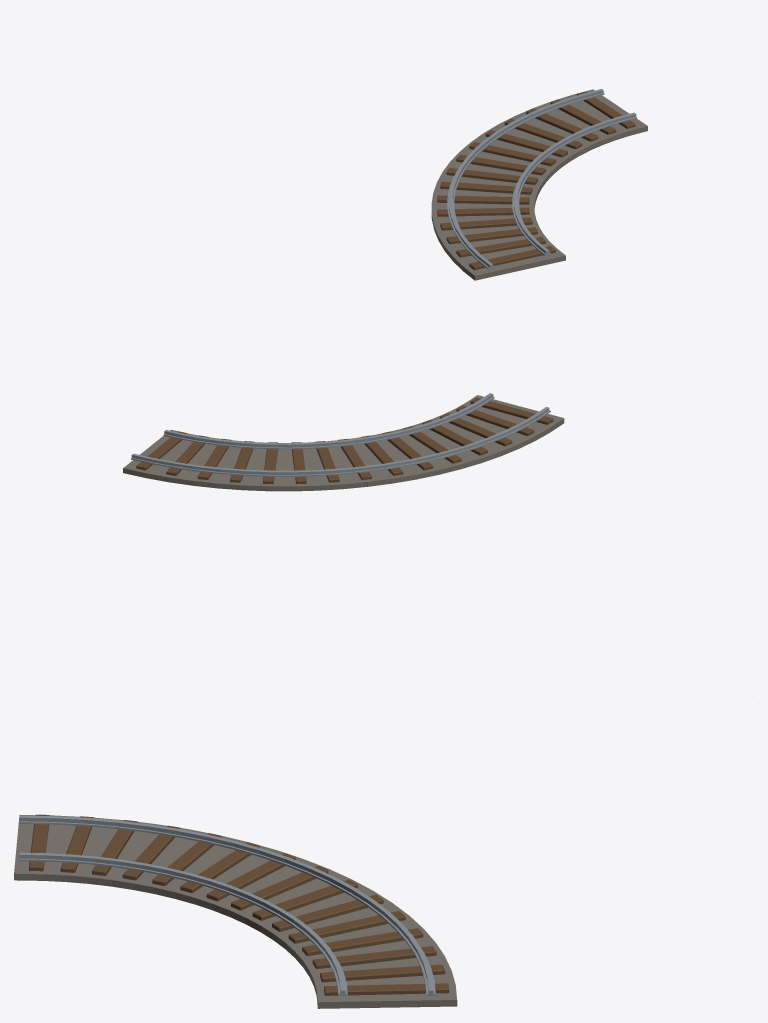
The model's file is rail_virage_large.glb.
The picture shows the model from 3 angles, top to bottom: view 1: azimuth 30°, elevation 25°; view 2: azimuth 150°, elevation 25°; view 3: azimuth 270°, elevation 25°; orthographic projection. The views are drawn at different scales.
Visible parts, largest first — view 1: rail_ballast.016, rail_traverse.018, rail_rail.018; view 2: rail_ballast.016, rail_traverse.018, rail_rail.018; view 3: rail_ballast.016, rail_traverse.018, rail_rail.018.
Boxes of the visible parts, x1,y1,x2,y2 form: rail_ballast.016: (431,89,647,280); rail_traverse.018: (437,91,635,270); rail_rail.018: (447,89,636,269); rail_ballast.016: (123,395,564,491); rail_traverse.018: (136,397,553,483); rail_rail.018: (131,393,550,476); rail_ballast.016: (14,815,457,1008); rail_traverse.018: (29,814,449,995); rail_rail.018: (19,815,435,995).
Bounding box in the file's own units: 5.04 × 0.12 × 5.04.
